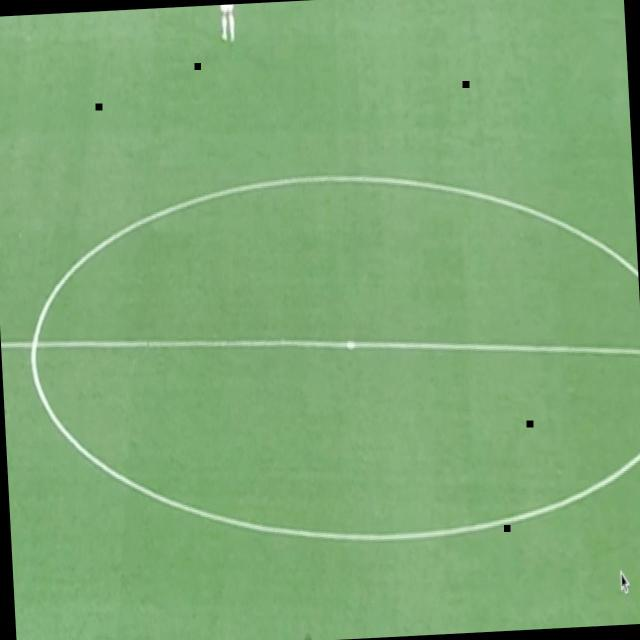player-white: (214, 4, 242, 50), (294, 627, 322, 640)
